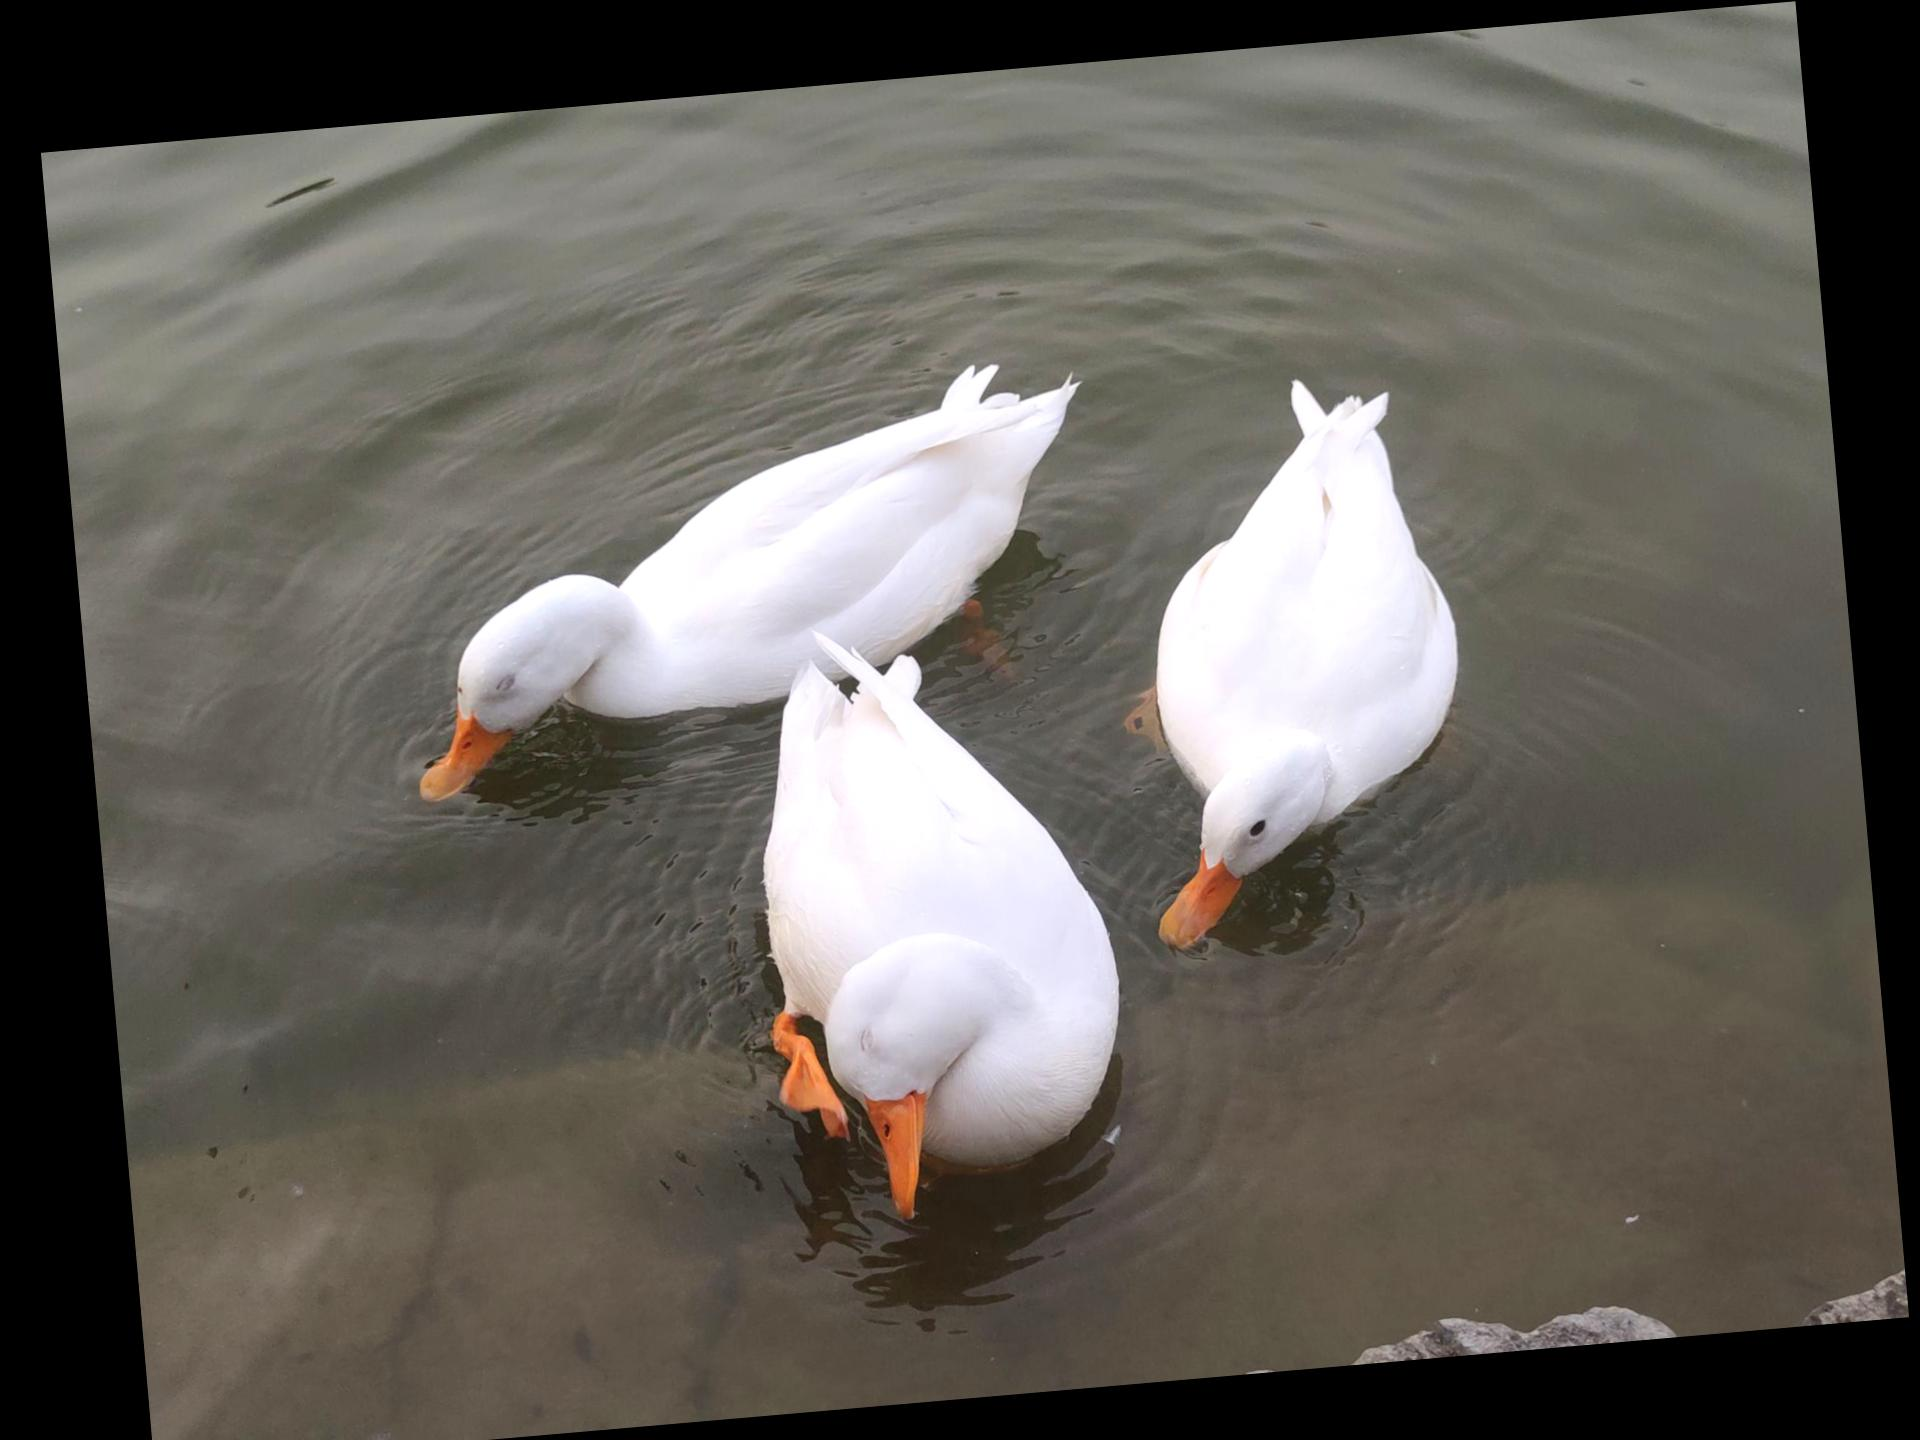duck: (367, 327, 1132, 821), (709, 594, 1158, 1239), (1098, 345, 1513, 957)
